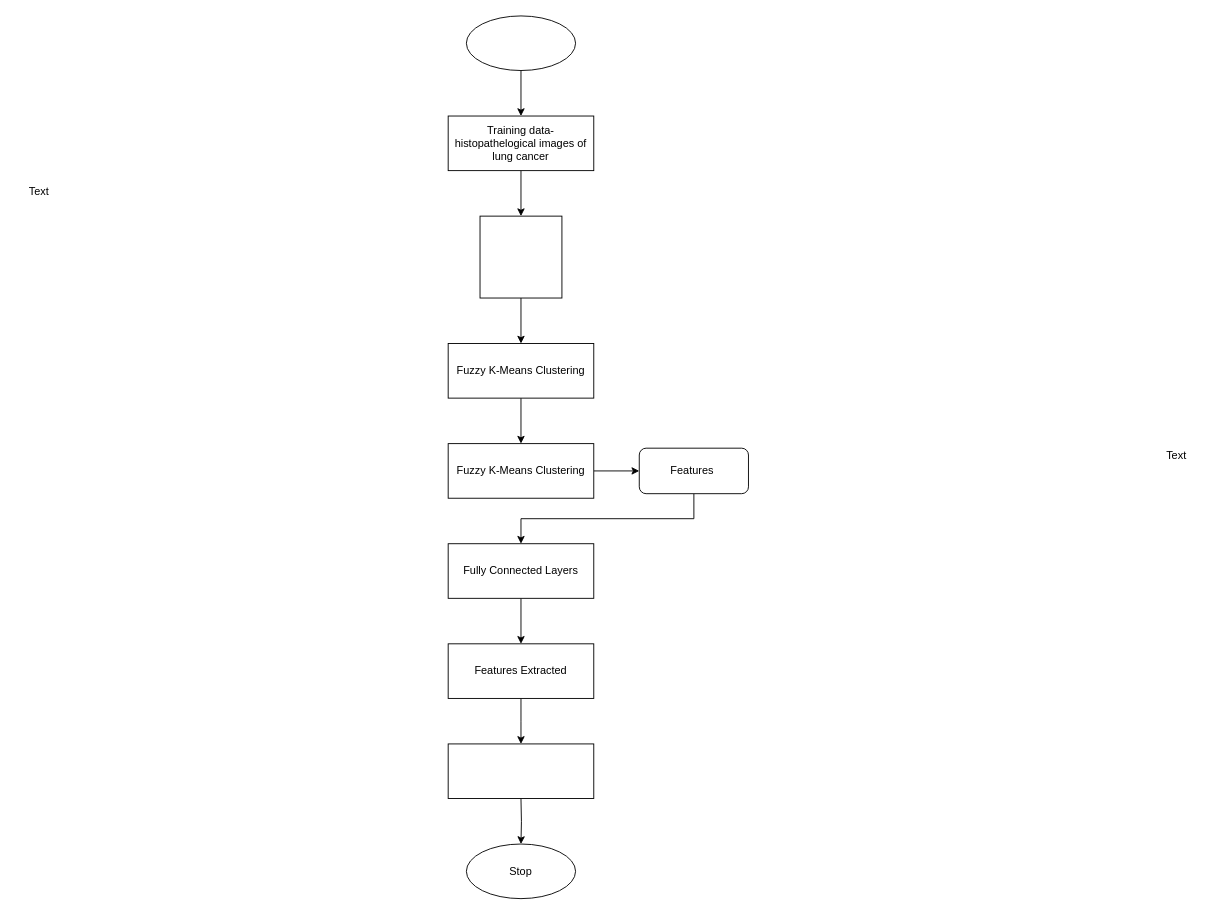
The diagram is 1214 pixels wide and 915 high, and some of its shapes have lost their labels. The centre of each missing label's shape, as x and y in pixels:
"Data Preprocessing" belongs at point 520,256.
"start" belongs at point 520,43.
"SVM" belongs at point 520,771.
